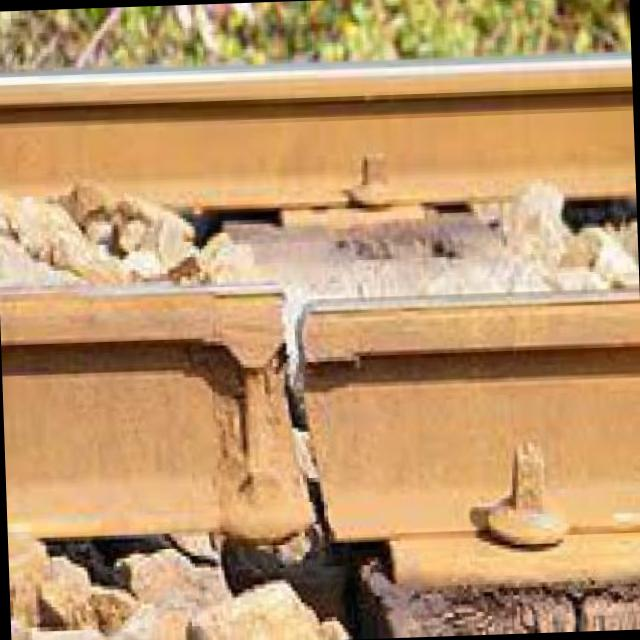defective: (2, 74, 634, 622)
